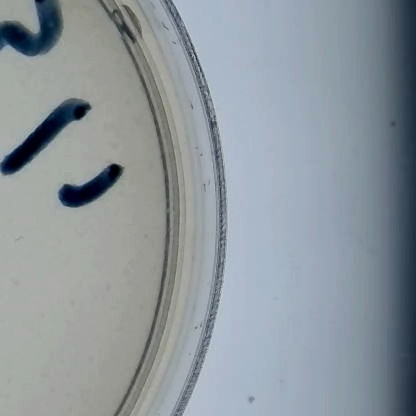worm: (11, 232, 29, 249)
